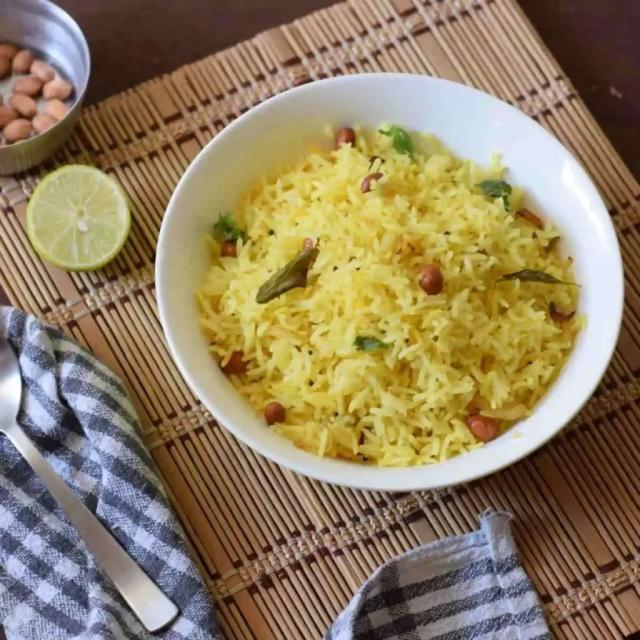lemon rice: (175, 98, 604, 486)
